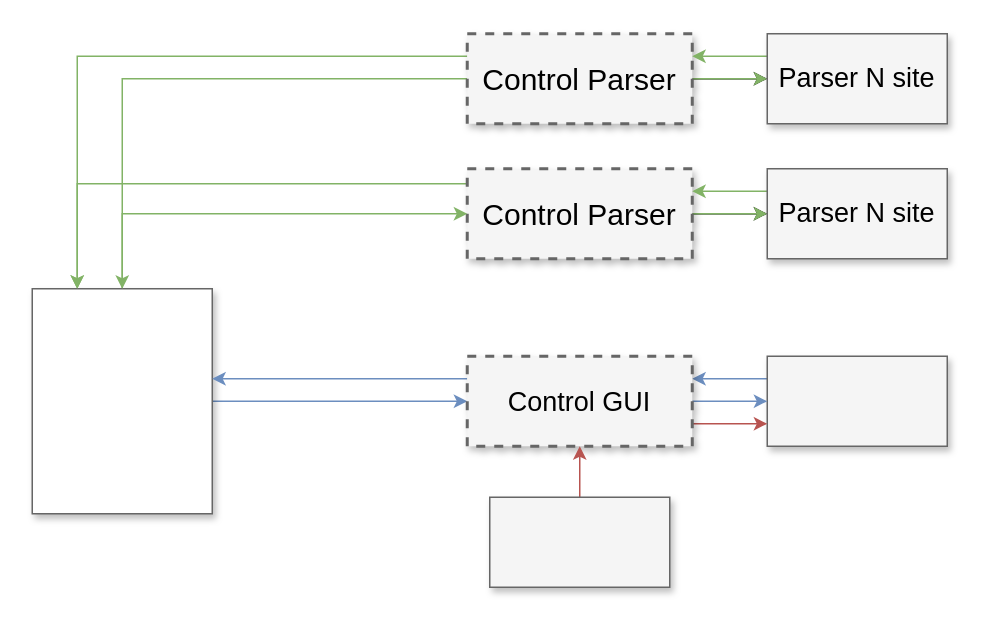
Image size: 983x624. Some labels were removed from this diagram. The shapes that lost their labels are listed below. From the top down, each one's centre as x and y in pixels, then its label:
At [123,402]: "Main".
At [858,403]: "GUI View".
At [580,544]: "Clicker".
